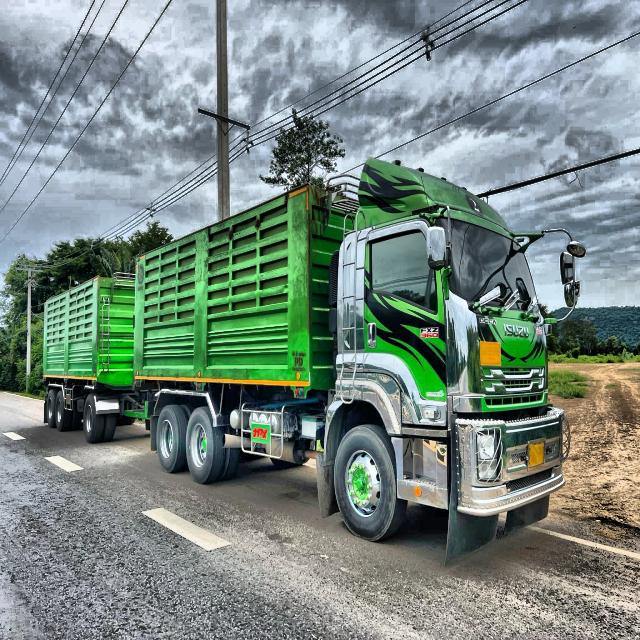trailer: (37, 140, 572, 563)
